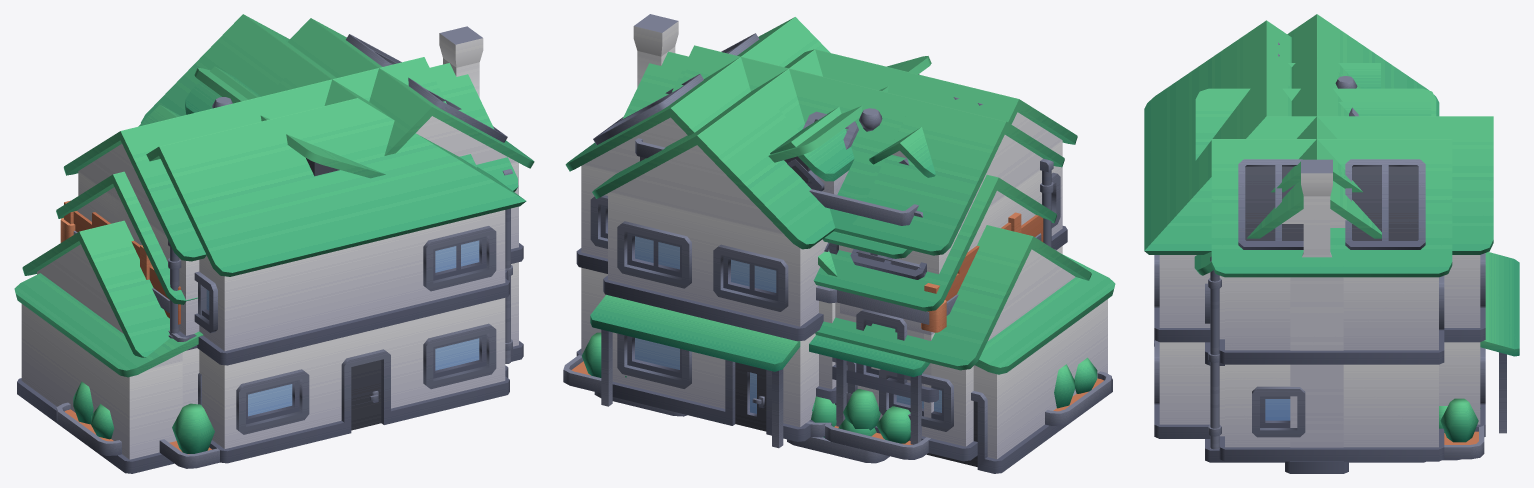
The model's file is suburb-kit.glb.
3 views of the same model, side by side, from view 1: azimuth 30°, elevation 25°; view 2: azimuth 150°, elevation 25°; view 3: azimuth 270°, elevation 25° (orthographic). The views are drawn at different scales.
Visible parts, largest first — view 1: building-type-f, building-type-b, building-type-d, building-type-e, building-type-h, building-type-l, building-type-o, fence-low; view 2: building-type-f, building-type-b, building-type-e, building-type-d, building-type-h, building-type-o, building-type-q, building-type-l, fence-low; view 3: building-type-b, building-type-f, building-type-d, building-type-e, building-type-l, building-type-o.
Boxes of the visible parts, x1,y1,x2,y2 form: building-type-f: [138, 14, 526, 468]; building-type-b: [22, 18, 534, 455]; building-type-d: [14, 26, 518, 473]; building-type-e: [63, 57, 476, 405]; building-type-h: [56, 171, 197, 304]; building-type-l: [194, 68, 385, 178]; building-type-o: [168, 155, 470, 406]; fence-low: [60, 200, 180, 324]; building-type-f: [590, 49, 1077, 448]; building-type-b: [563, 17, 1111, 461]; building-type-e: [672, 45, 1064, 459]; building-type-d: [594, 14, 1115, 473]; building-type-h: [813, 174, 1056, 402]; building-type-o: [677, 46, 1056, 437]; building-type-q: [635, 138, 1041, 417]; building-type-l: [768, 56, 931, 256]; fence-low: [921, 215, 1043, 332]; building-type-b: [1208, 139, 1484, 461]; building-type-f: [1144, 20, 1519, 438]; building-type-d: [1194, 76, 1460, 473]; building-type-e: [1271, 14, 1439, 192]; building-type-l: [1195, 88, 1436, 160]; building-type-o: [1317, 57, 1360, 186].
Size of the model in its own units: 59898 by 40548 by 46066.
Materials: 1 (1 with a texture image).
